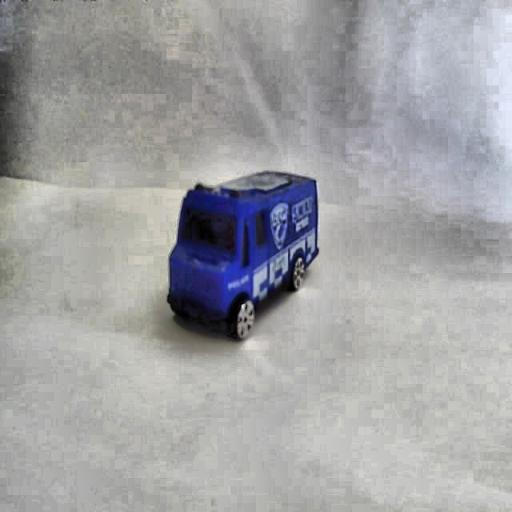police car: (168, 170, 320, 345)
